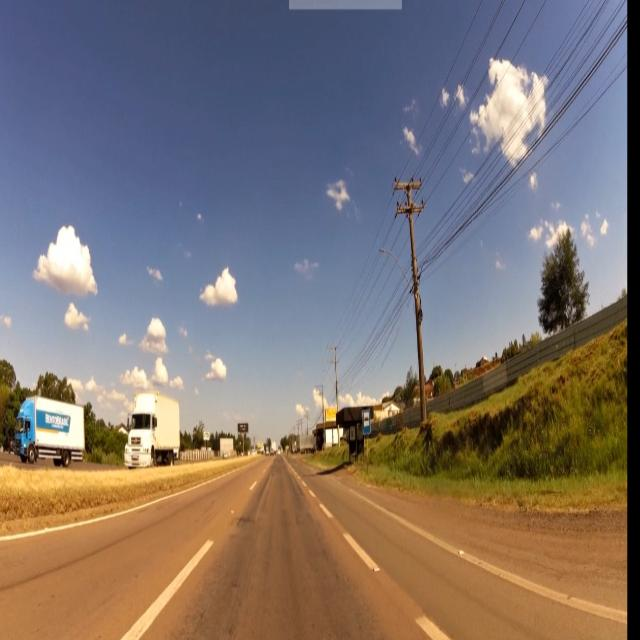S-14: (362, 410, 371, 435)
